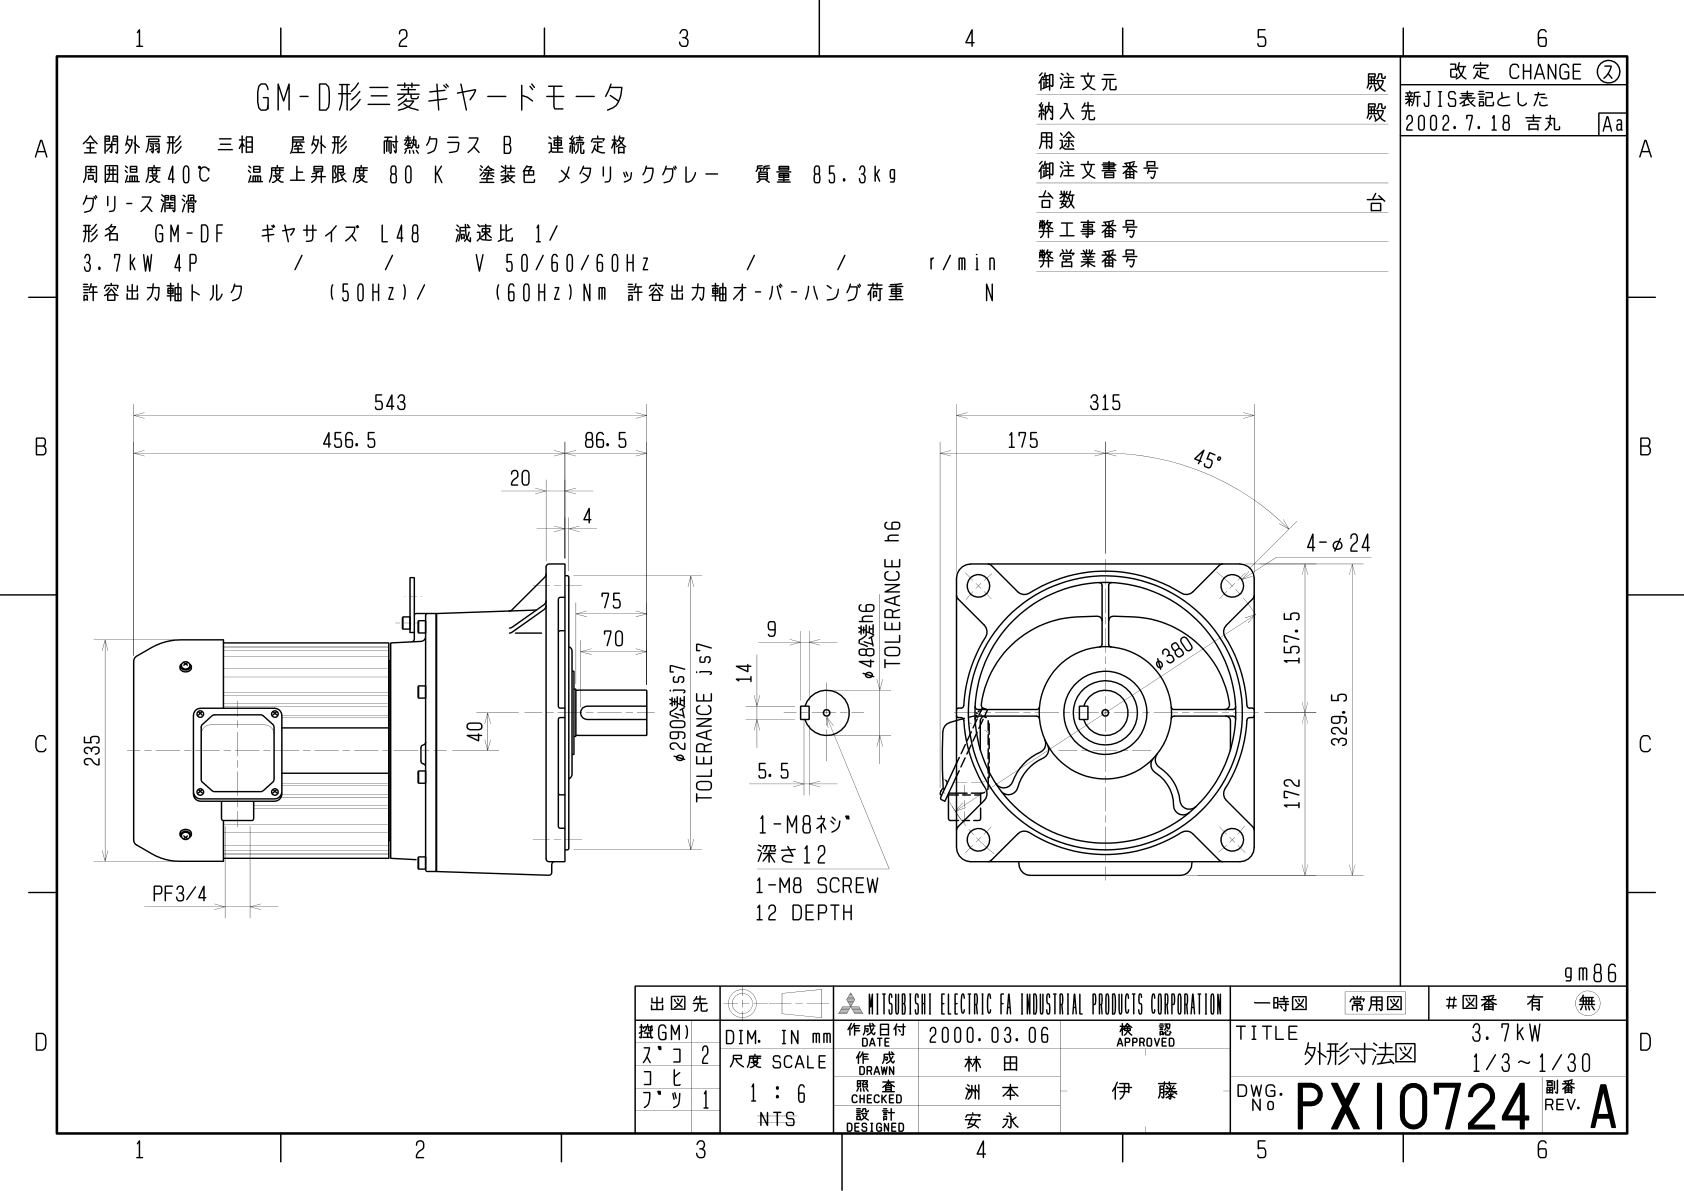GM_D_屋外＿三相_フランジ: (1, 1, 1674, 1181)
